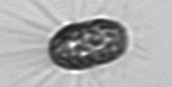plankton: (41, 14, 134, 74)
